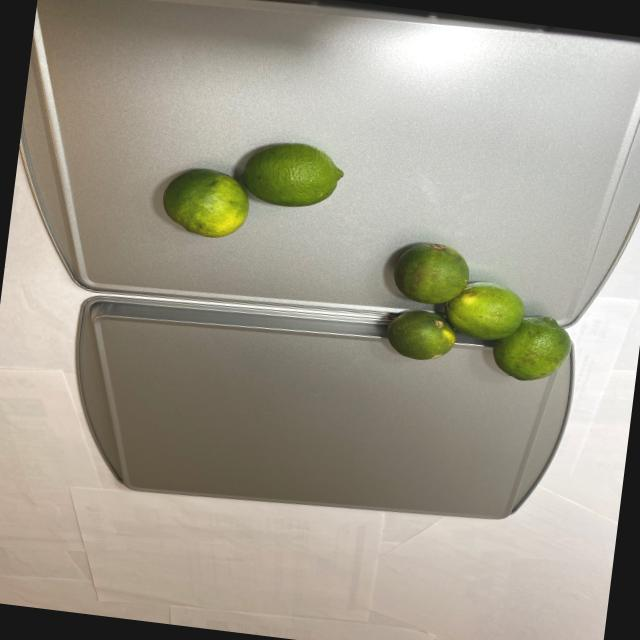lemon: (377, 236, 586, 390), (151, 116, 355, 256)
